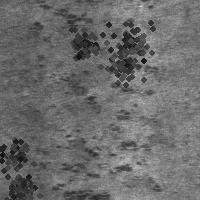rolled-in_scale: (52, 109, 167, 198), (32, 2, 97, 106), (109, 1, 163, 96), (97, 8, 163, 74), (93, 40, 143, 90), (0, 125, 37, 179), (60, 20, 104, 64), (0, 170, 40, 200)
